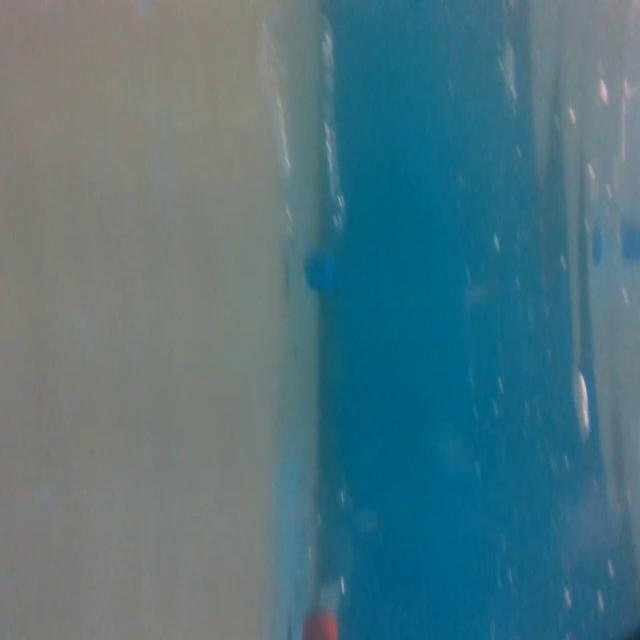plastic bottle: (251, 9, 355, 286), (290, 476, 358, 640)
